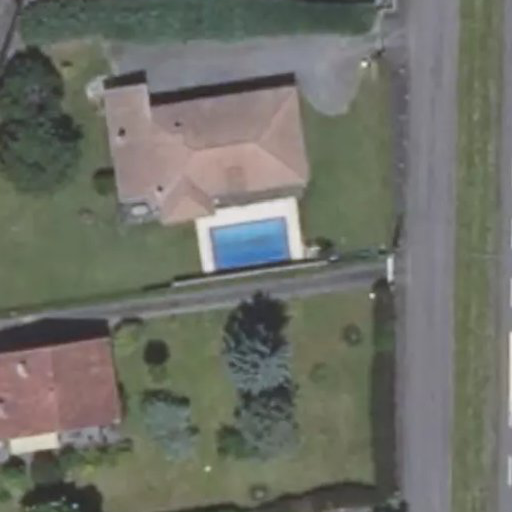pool: (218, 229, 293, 254)
